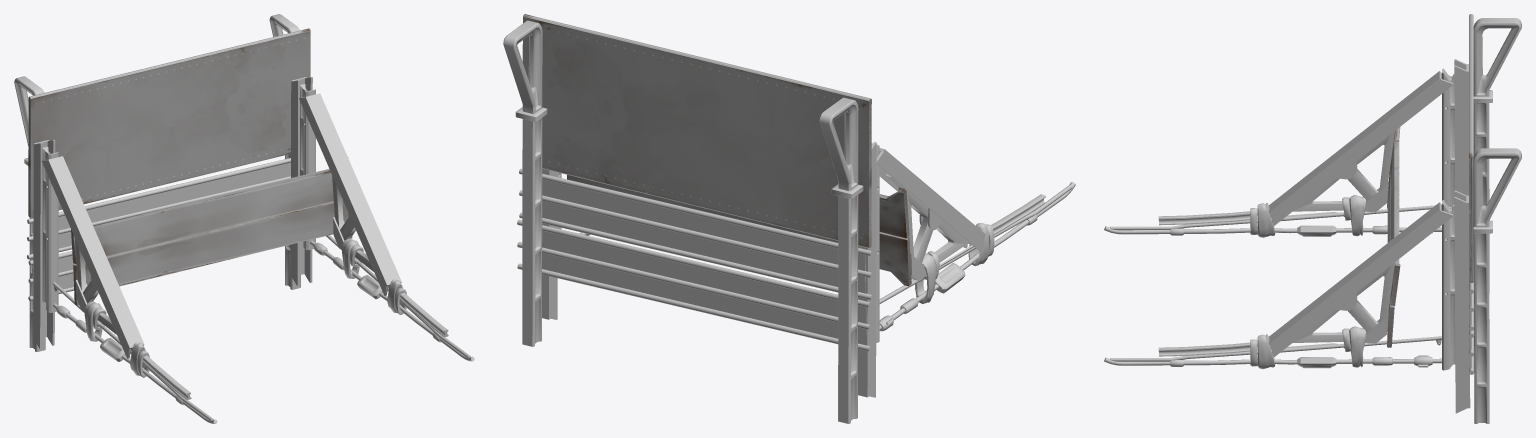
File: HubShelf3.FBX
3 renders of one model, left to right at view 1: azimuth 30°, elevation 25°; view 2: azimuth 150°, elevation 25°; view 3: azimuth 270°, elevation 25°, orthographic. The views are drawn at different scales.
Visible parts, largest first — view 1: HubShelf3_LOD0; view 2: HubShelf3_LOD0; view 3: HubShelf3_LOD0.
Part boxes in pixels (bbox=[...]): HubShelf3_LOD0: bbox=[14, 14, 474, 423]; HubShelf3_LOD0: bbox=[503, 14, 1075, 423]; HubShelf3_LOD0: bbox=[1104, 14, 1521, 423].
Size of what is drawn, in the model's own units: 13.79 by 11.96 by 16.69.
